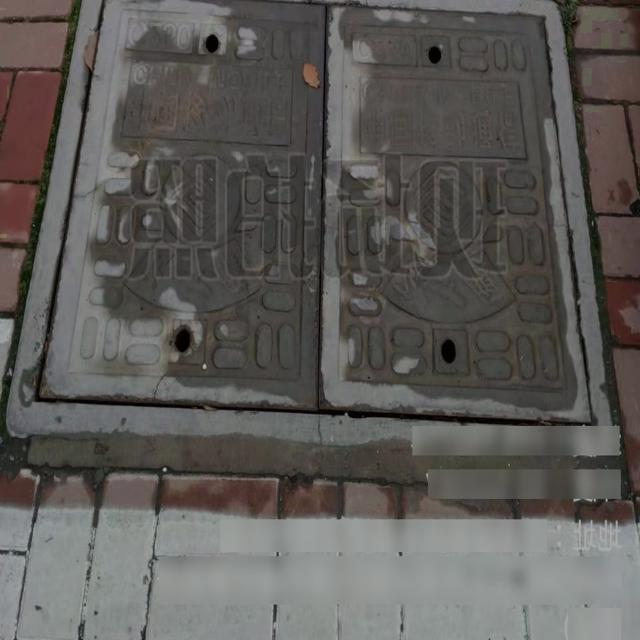good: (6, 0, 617, 440)
